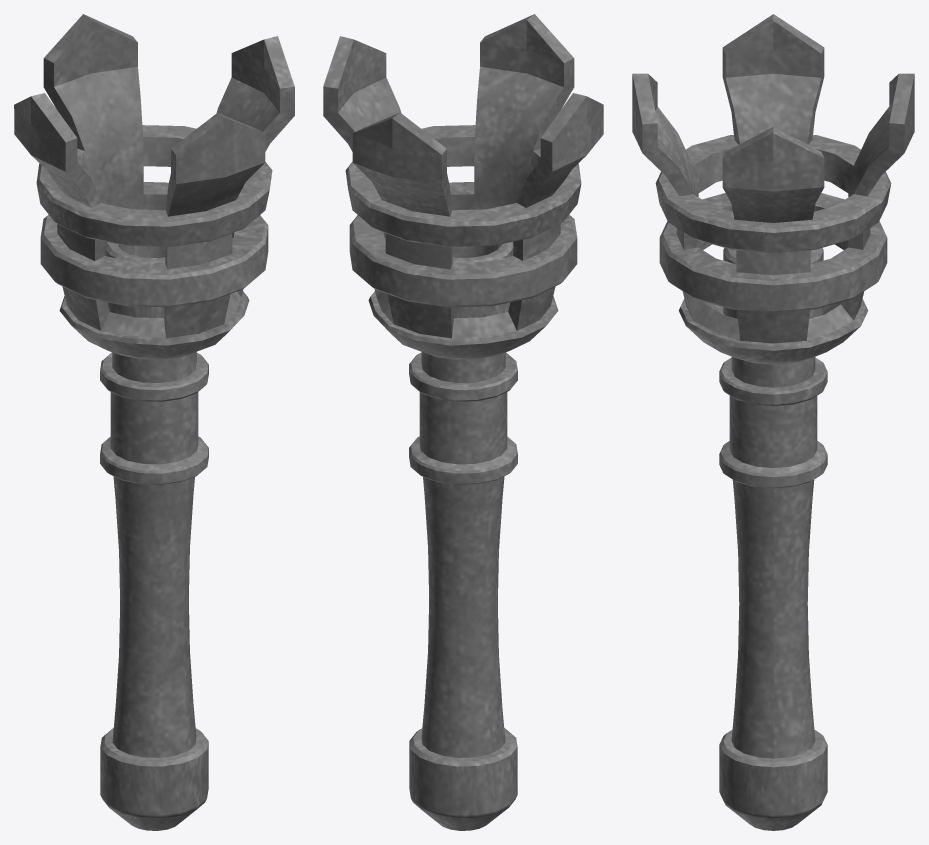
The model's file is SM_MagicTorch.fbx.
3 views of the same model, side by side, from view 1: azimuth 30°, elevation 25°; view 2: azimuth 150°, elevation 25°; view 3: azimuth 270°, elevation 25° (orthographic).
Visible parts, largest first — view 1: SM_Torch_LOD0; view 2: SM_Torch_LOD0; view 3: SM_Torch_LOD0.
Boxes of the visible parts, left/top/right/bottom form: SM_Torch_LOD0: left=14, top=14, right=294, bottom=830; SM_Torch_LOD0: left=323, top=14, right=603, bottom=830; SM_Torch_LOD0: left=632, top=14, right=914, bottom=830.
Size of the model in its own units: 27.75 by 27.75 by 80.94.
